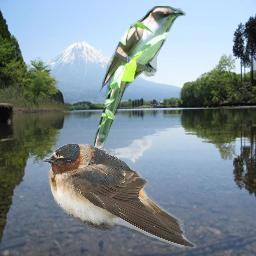Cuckoo: (94, 6, 186, 148)
Swallow: (43, 143, 196, 248)
